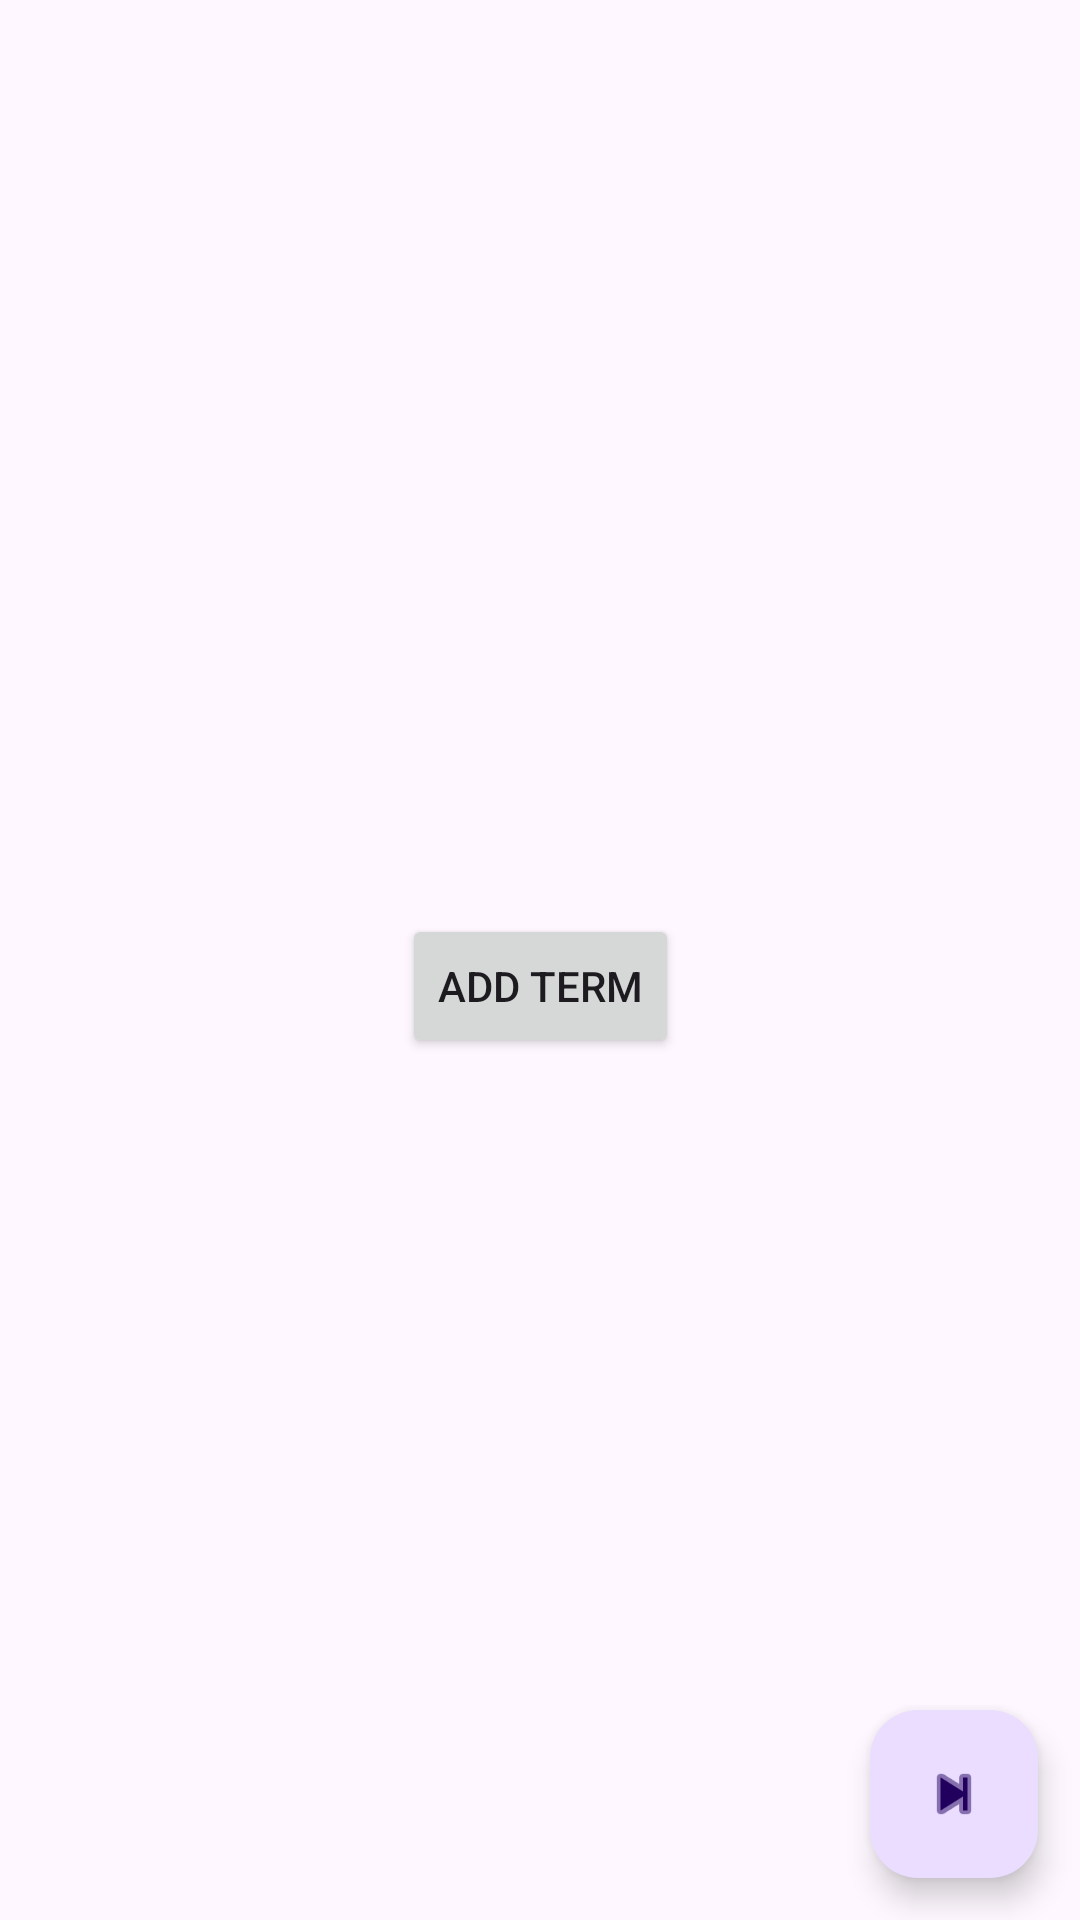

Screen size 1080px×1920px. Icon name, then its center in pixels as (x,y):
Next: (954,1794)
